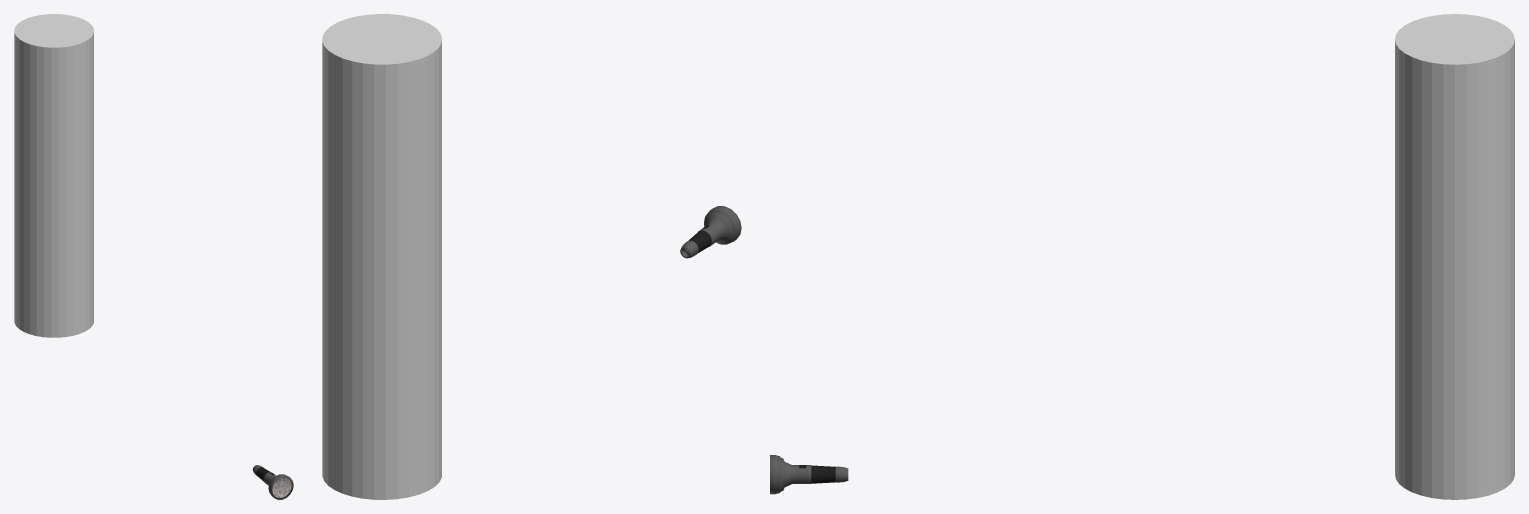
The model's file is flashlight.glb.
The picture shows the model from 3 angles, left to right: view 1: azimuth 30°, elevation 25°; view 2: azimuth 150°, elevation 25°; view 3: azimuth 270°, elevation 25°; orthographic projection. The views are drawn at different scales.
Parts seen in each view (by area): view 1: Ref -noimp, Flashlight; view 2: Ref -noimp, Flashlight; view 3: Ref -noimp, Flashlight.
Boxes of the visible parts, left/top/right/bottom form: Ref -noimp: left=14, top=14, right=93, bottom=337; Flashlight: left=252, top=465, right=293, bottom=499; Ref -noimp: left=322, top=14, right=441, bottom=499; Flashlight: left=680, top=206, right=741, bottom=258; Ref -noimp: left=1395, top=14, right=1514, bottom=499; Flashlight: left=770, top=455, right=848, bottom=494.
Size of the model in its own units: 0.5 by 2.08 by 3.1.
3 materials, 1 textured.
